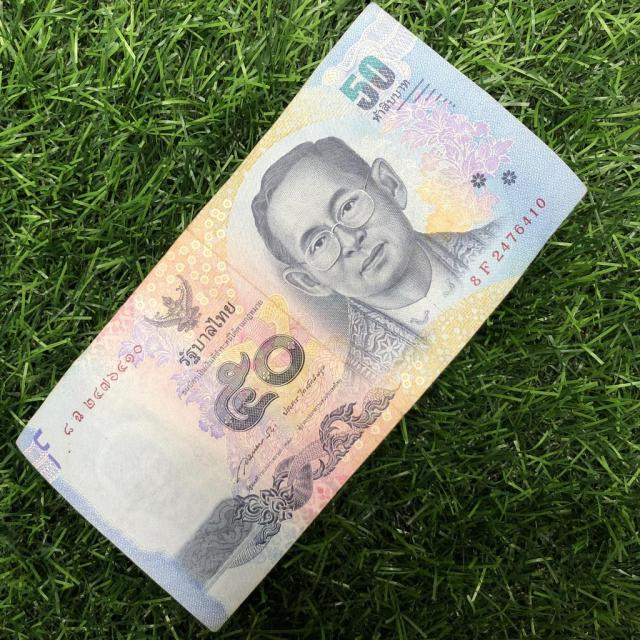THAI50: (18, 6, 584, 629)
